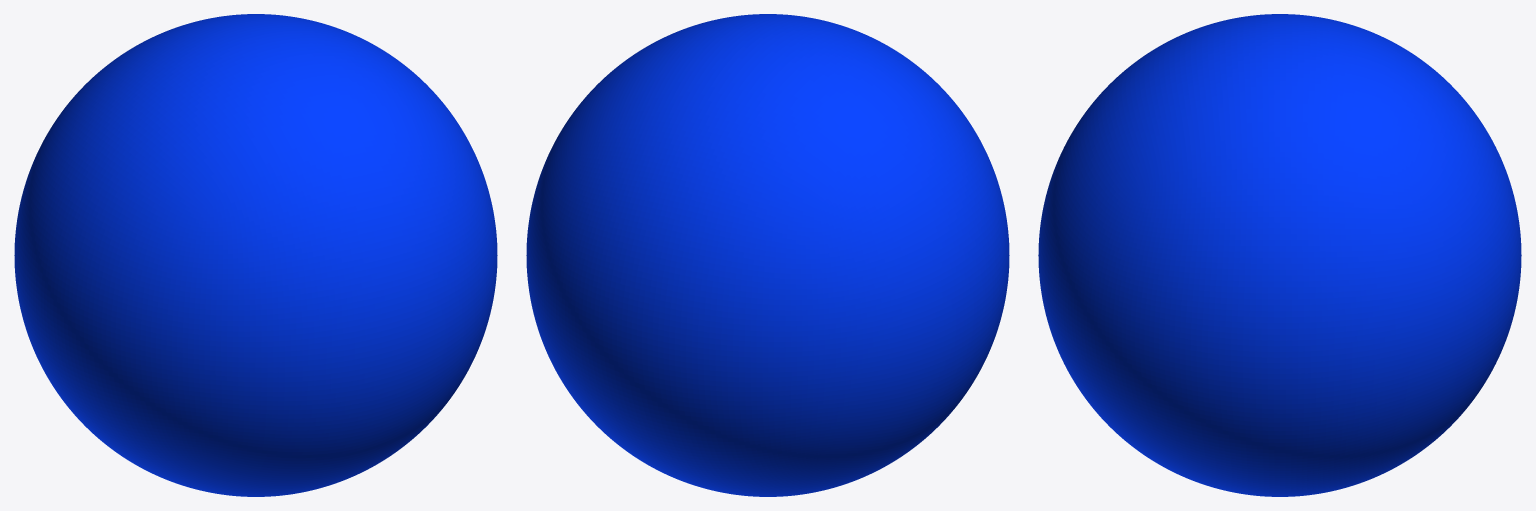
File: ball_opacity1.gltf
3 views of the same model, side by side, from view 1: azimuth 30°, elevation 25°; view 2: azimuth 150°, elevation 25°; view 3: azimuth 270°, elevation 25° (orthographic).
Parts seen in each view (by area): view 1: Quad Sphere; view 2: Quad Sphere; view 3: Quad Sphere.
Boxes of the visible parts, bbox=[...] form: Quad Sphere: bbox=[14, 14, 497, 496]; Quad Sphere: bbox=[526, 14, 1009, 496]; Quad Sphere: bbox=[1038, 14, 1521, 496].
Size of the model in its own units: 2.57 by 2.57 by 2.57.
